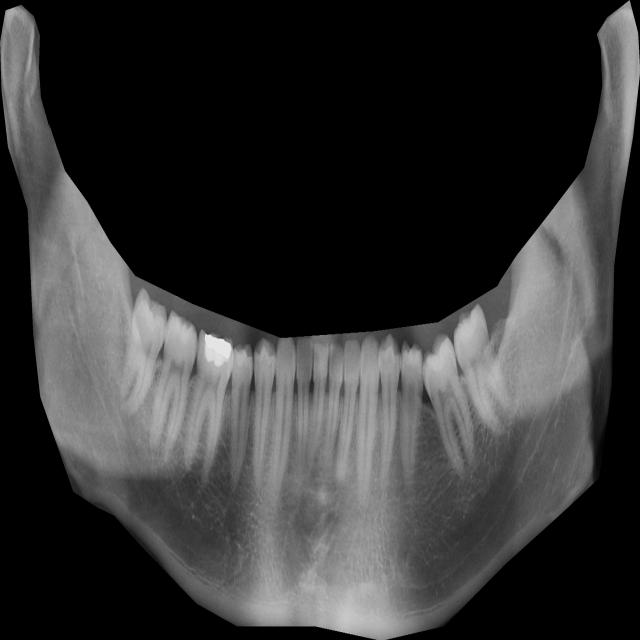mandibula: (0, 0, 640, 640)
